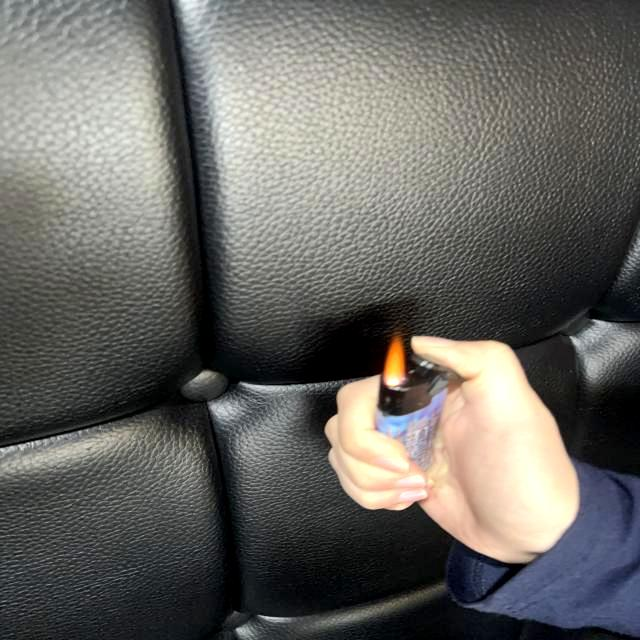fire: (382, 334, 410, 391)
